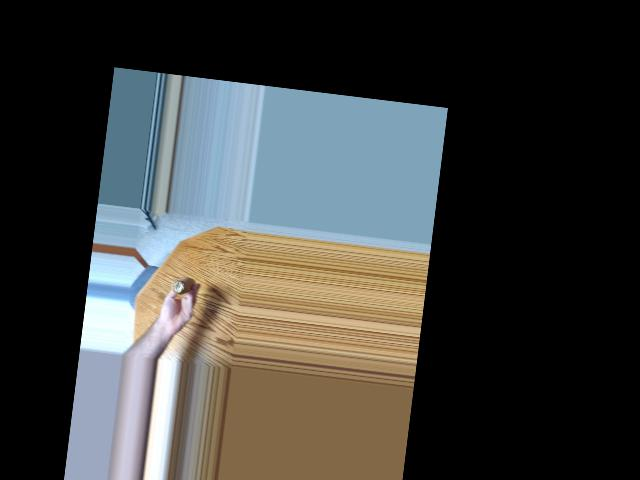sweet_potato: (167, 272, 196, 302)
